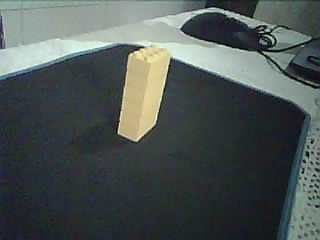lego: (115, 45, 171, 142)
